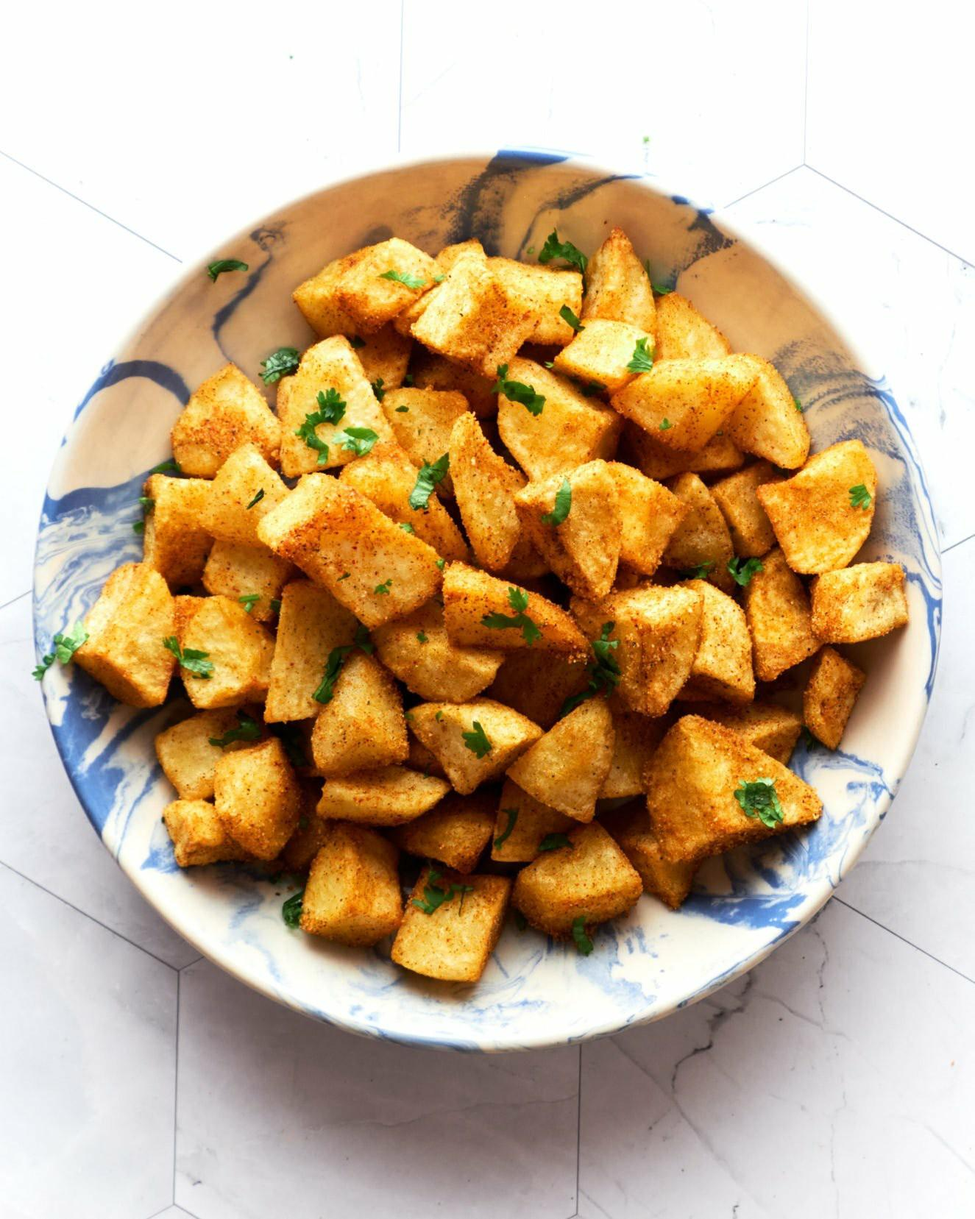AlooMasala: (77, 226, 910, 990)
